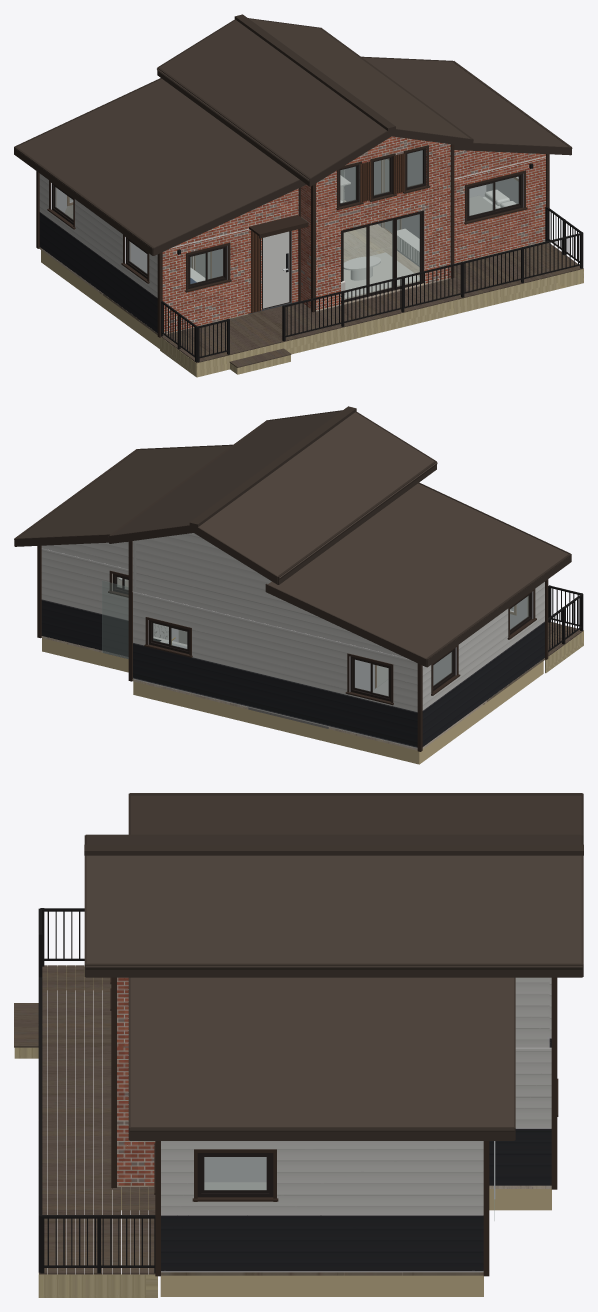
Rendered from STAY20-R.glb.
3 views of the same model, one above another, from view 1: azimuth 30°, elevation 25°; view 2: azimuth 150°, elevation 25°; view 3: azimuth 270°, elevation 25° (orthographic). The views are drawn at different scales.
Visible parts, largest first — view 1: 지붕_지붕재, 외장_벽돌, 데크, 지붕_후레싱, 난간_블랙, 지붕_외장_벽돌, 유리, 외장_가로메탈, 데크_스커트, 실내벽, 창틀, 바닥_마루 (+13 smaller); view 2: 지붕_지붕재, 외장_가로메탈, 지붕_외장_가로메탈, 지붕_후레싱, 하부_스커트, 유리, 창틀, 창몰딩, 외장_트림, 실내벽, 난간_블랙, 바닥_마루 (+3 smaller); view 3: 지붕_지붕재, 외장_가로메탈, 데크, 지붕_후레싱, 하부_스커트, 난간_블랙, 외장_트림, 데크_스커트, 외장_벽돌, 지붕_외장_가로메탈, 유리, 바닥_마루 (+5 smaller).
Boxes of the visible parts, box(x1,y1,x2,y2) form: 지붕_지붕재: box(14, 19, 572, 248); 외장_벽돌: box(162, 157, 545, 333); 데크: box(161, 243, 583, 367); 지붕_후레싱: box(14, 14, 571, 255); 난간_블랙: box(161, 206, 583, 361); 지붕_외장_벽돌: box(173, 136, 545, 247); 유리: box(55, 176, 518, 299); 외장_가로메탈: box(39, 173, 157, 332); 데크_스커트: box(160, 269, 583, 377); 실내벽: box(51, 160, 523, 302); 창틀: box(52, 173, 522, 301); 바닥_마루: box(39, 200, 545, 334); 지붕_지붕재: box(14, 411, 570, 659); 외장_가로메탈: box(41, 549, 544, 748); 지붕_외장_가로메탈: box(41, 533, 405, 657); 지붕_후레싱: box(14, 406, 571, 667); 하부_스커트: box(42, 638, 543, 764); 유리: box(102, 577, 528, 696); 창틀: box(112, 574, 532, 701); 창몰딩: box(108, 570, 536, 705); 외장_트림: box(37, 548, 548, 751); 실내벽: box(148, 591, 533, 691); 난간_블랙: box(548, 585, 583, 651); 바닥_마루: box(41, 636, 544, 750); 지붕_지붕재: box(85, 795, 582, 1131); 외장_가로메탈: box(161, 1048, 551, 1272); 데크: box(14, 965, 155, 1274); 지붕_후레싱: box(84, 793, 583, 1140); 하부_스커트: box(121, 1189, 551, 1296); 난간_블랙: box(38, 908, 155, 1273); 외장_트림: box(111, 1049, 557, 1276); 데크_스커트: box(14, 966, 157, 1297); 외장_벽돌: box(117, 1047, 155, 1185); 지붕_외장_가로메탈: box(515, 977, 551, 1047); 유리: box(204, 1141, 494, 1220); 바닥_마루: box(117, 1185, 551, 1275).
Bounding box in the file's own units: 12.57 × 5.41 × 9.06.
Materials: 52 (14 with a texture image).
